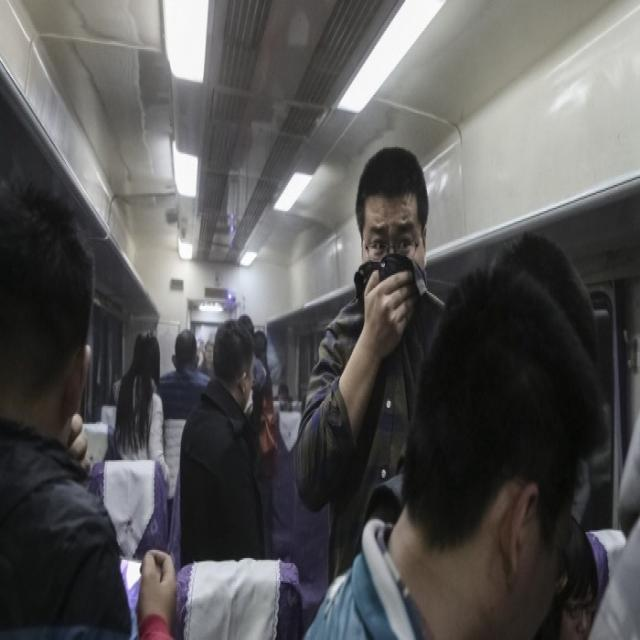nomask: (365, 195, 423, 322)
